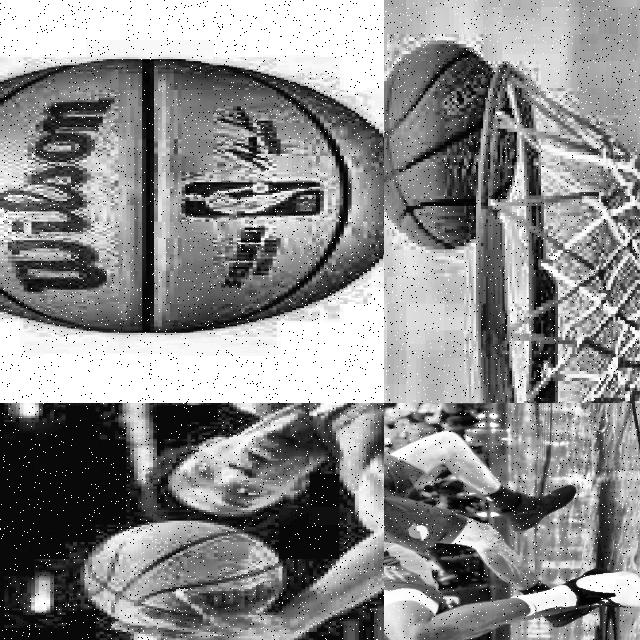Basketball: (0, 58, 384, 332), (81, 520, 283, 622)
